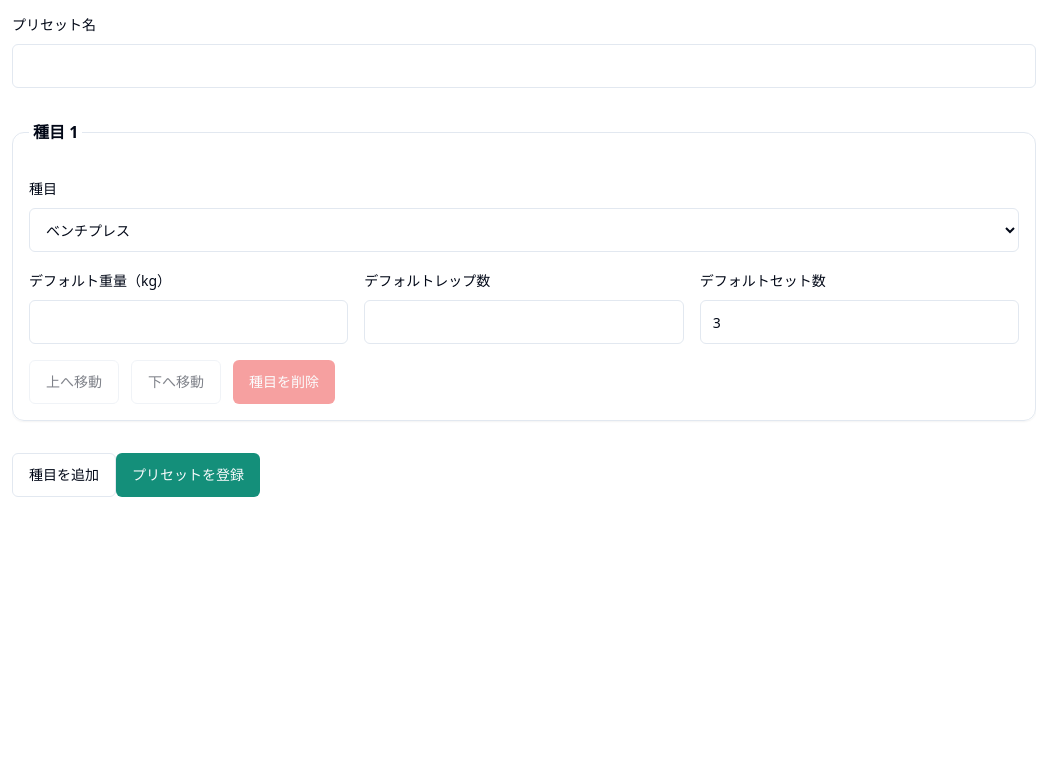
Test: PresetForm › shows a safe action error
The width and height of the screenshot is (1048, 780).
In the field labelled "プリセット名": (524, 66) [12, 44, 1036, 88], type "胸の日"
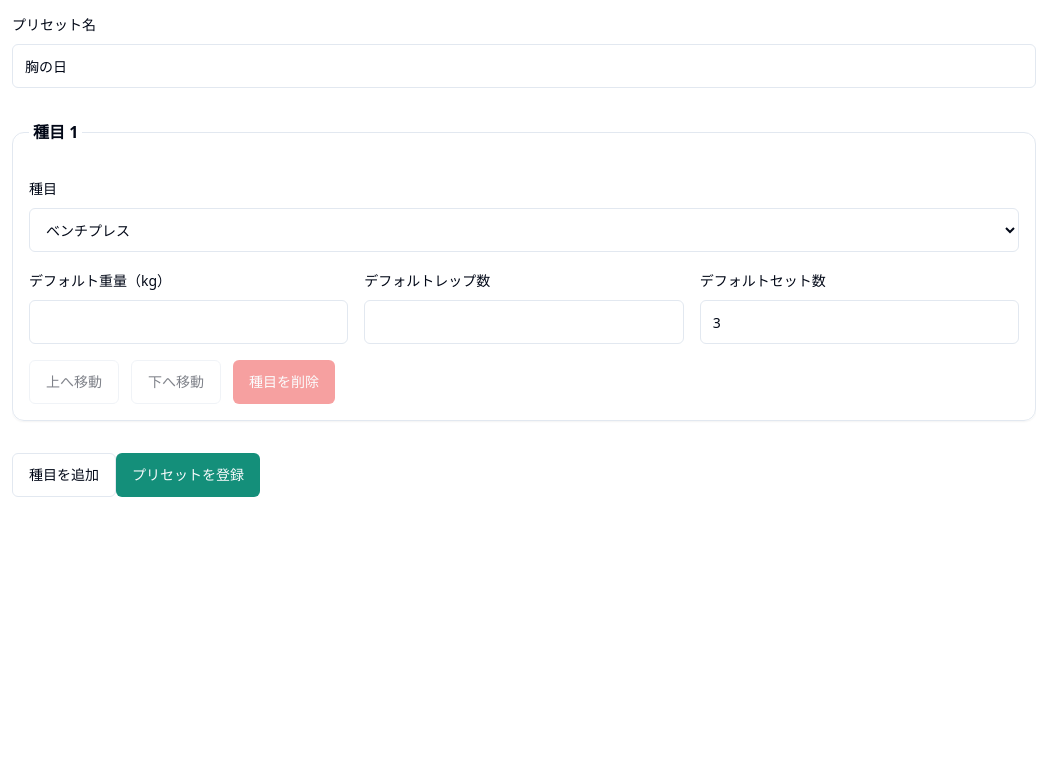
Click the button "プリセットを登録": (188, 475) [116, 453, 260, 497]
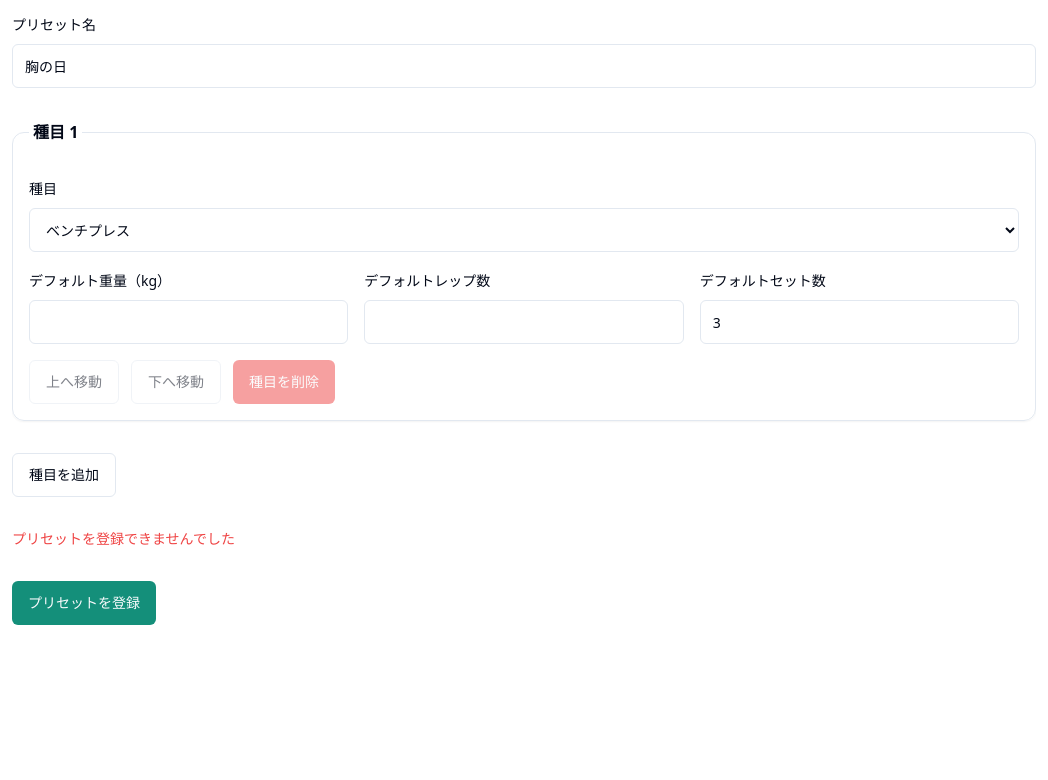
Check: the message reads "プリセットを登録できませんでした", box [12, 529, 235, 548]
